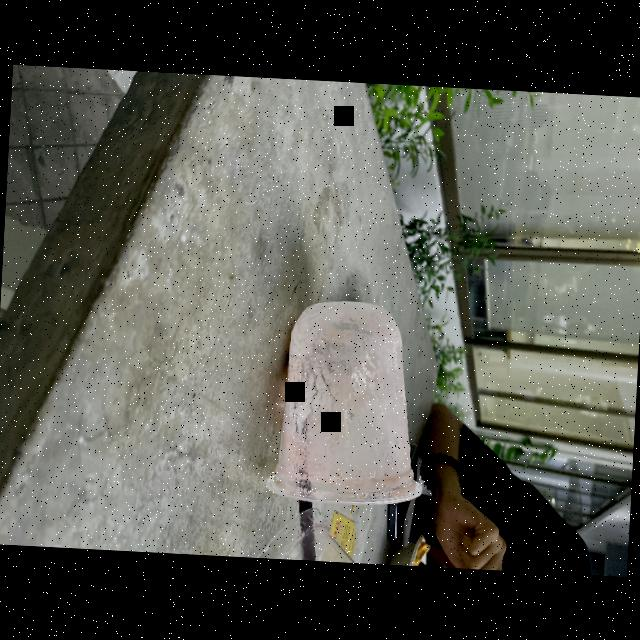plastic_cup: (256, 295, 439, 508)
straw: (294, 486, 324, 560)
